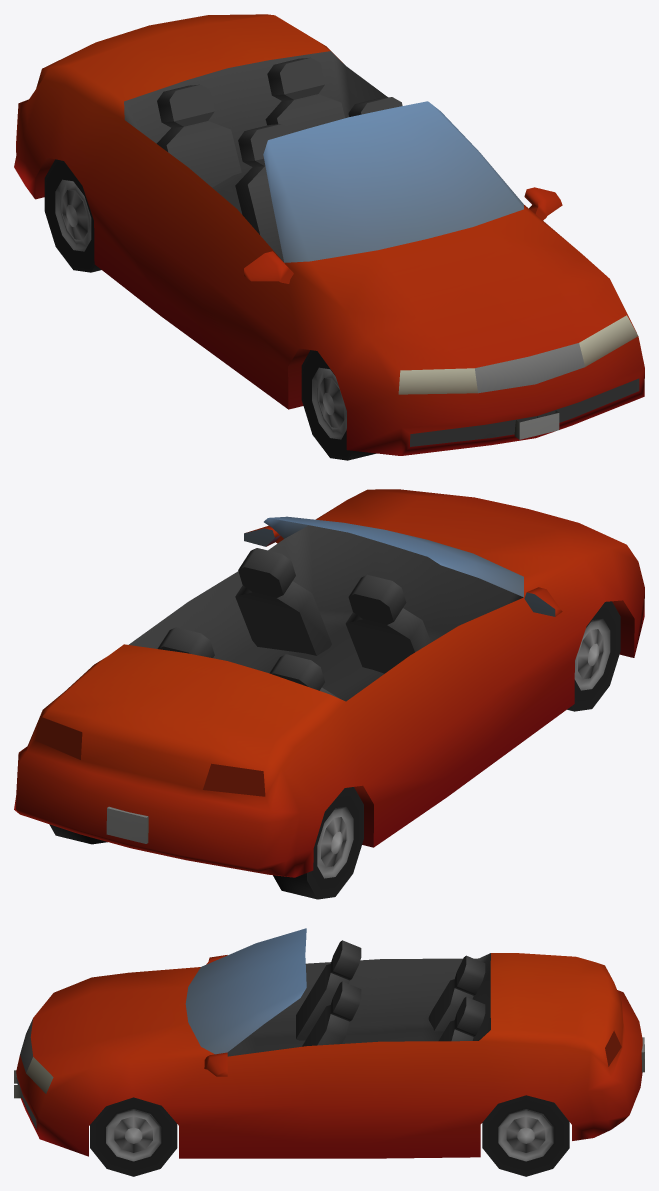
The model's file is vehicles-cars-convertible_v1.fbx.
The picture shows the model from 3 angles, top to bottom: view 1: azimuth 30°, elevation 25°; view 2: azimuth 150°, elevation 25°; view 3: azimuth 270°, elevation 25°; orthographic projection. The views are drawn at different scales.
Parts seen in each view (by area): view 1: Convertible_v1; view 2: Convertible_v1; view 3: Convertible_v1.
Boxes of the visible parts, <box> form: Convertible_v1: <box>14,14,644,460</box>; Convertible_v1: <box>14,489,644,899</box>; Convertible_v1: <box>14,928,644,1176</box>.
Bounding box in the file's own units: 1.96 × 1.36 × 4.5.
